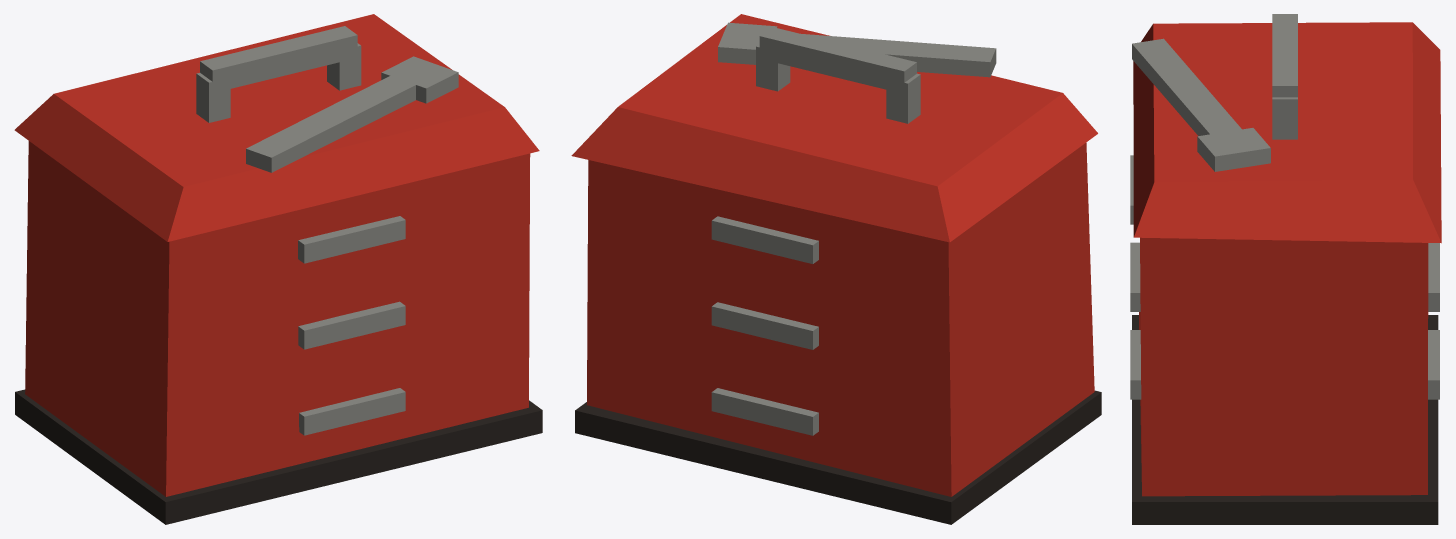
Rendered from good_tools.glb.
The picture shows the model from 3 angles, left to right: view 1: azimuth 30°, elevation 25°; view 2: azimuth 150°, elevation 25°; view 3: azimuth 270°, elevation 25°; orthographic projection.
Visible parts, largest first — view 1: good_tools; view 2: good_tools; view 3: good_tools.
Boxes of the visible parts, left/top/right/bottom form: good_tools: left=14, top=14, right=542, bottom=524; good_tools: left=571, top=14, right=1101, bottom=524; good_tools: left=1130, top=14, right=1441, bottom=524.
Size of the model in its own units: 0.5229 by 0.495 by 0.366.
